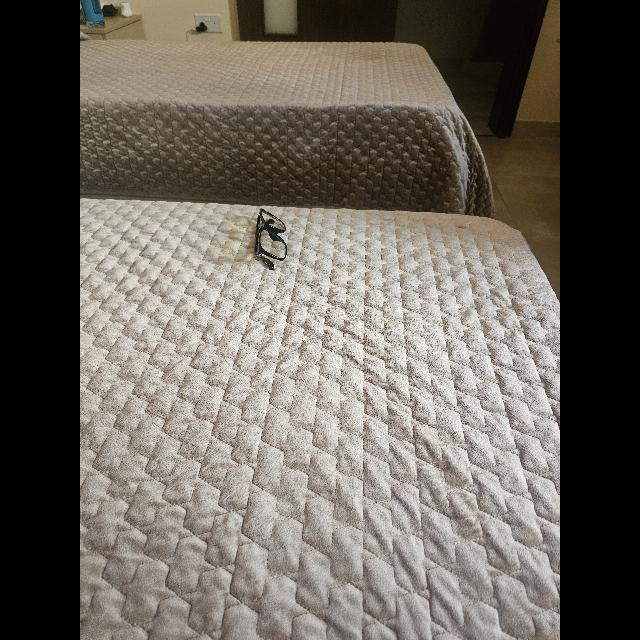glasses: (255, 208, 287, 270)
